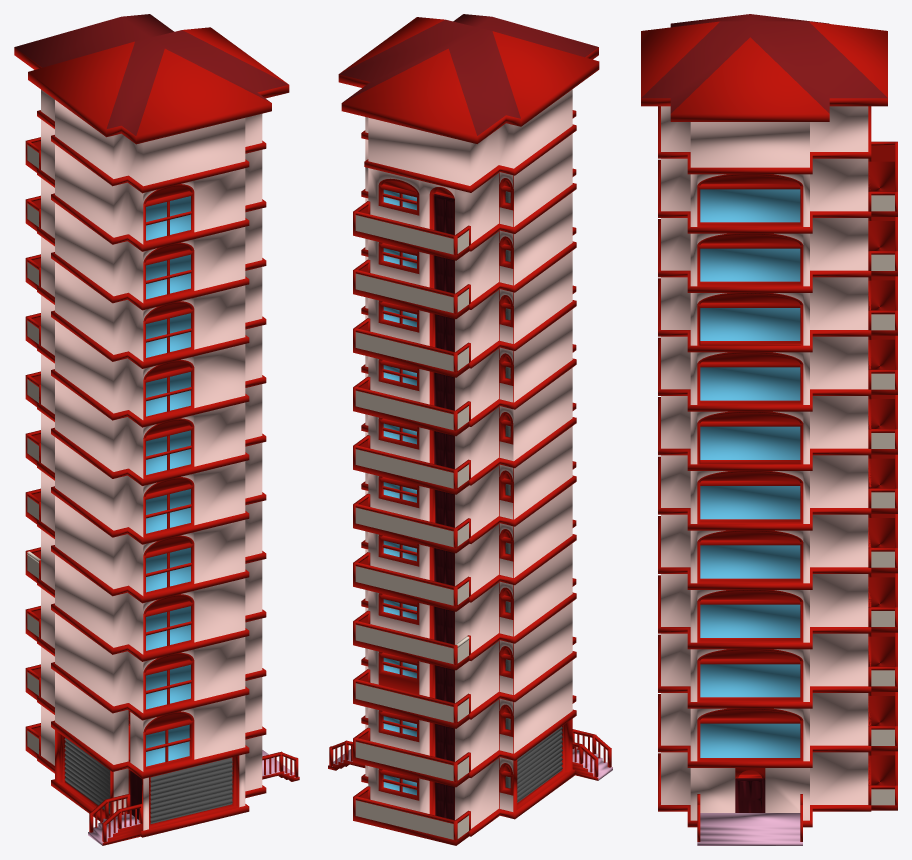
3 views of the same model, side by side, from view 1: azimuth 30°, elevation 25°; view 2: azimuth 150°, elevation 25°; view 3: azimuth 270°, elevation 25° (orthographic).
Parts seen in each view (by area): view 1: building_001; view 2: building_001; view 3: building_001.
Boxes of the visible parts, x1,y1,x2,y2 form: building_001: (14,14,299,845); building_001: (328,14,612,845); building_001: (641,14,897,845).
Size of what is drawn, in the model's own units: 845 by 2830 by 863.
